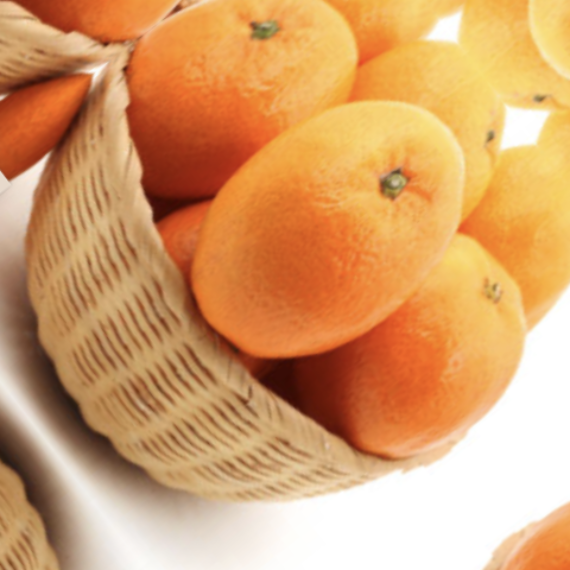orange: (142, 39, 533, 415), (259, 182, 570, 532), (47, 0, 410, 259)
